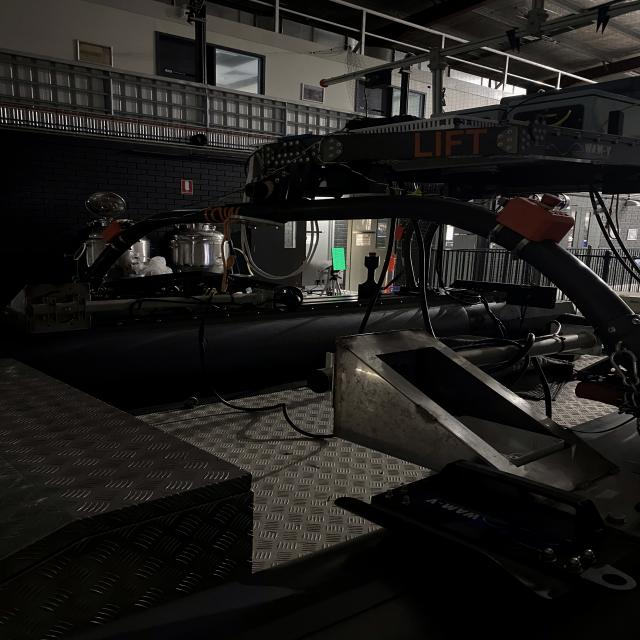matrix: (329, 246, 350, 273)
